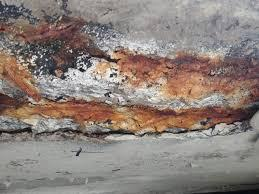Corrosion: (1, 93, 259, 134), (94, 48, 259, 103), (1, 14, 111, 70), (1, 55, 42, 102)
Spalling: (1, 1, 259, 142)
